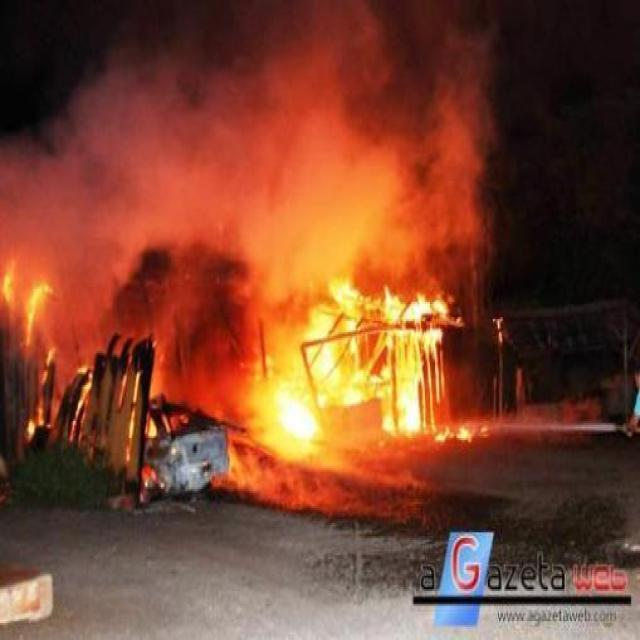Fire: (263, 283, 473, 446), (21, 281, 49, 340), (1, 254, 19, 310)
Smoke: (42, 22, 506, 244)
